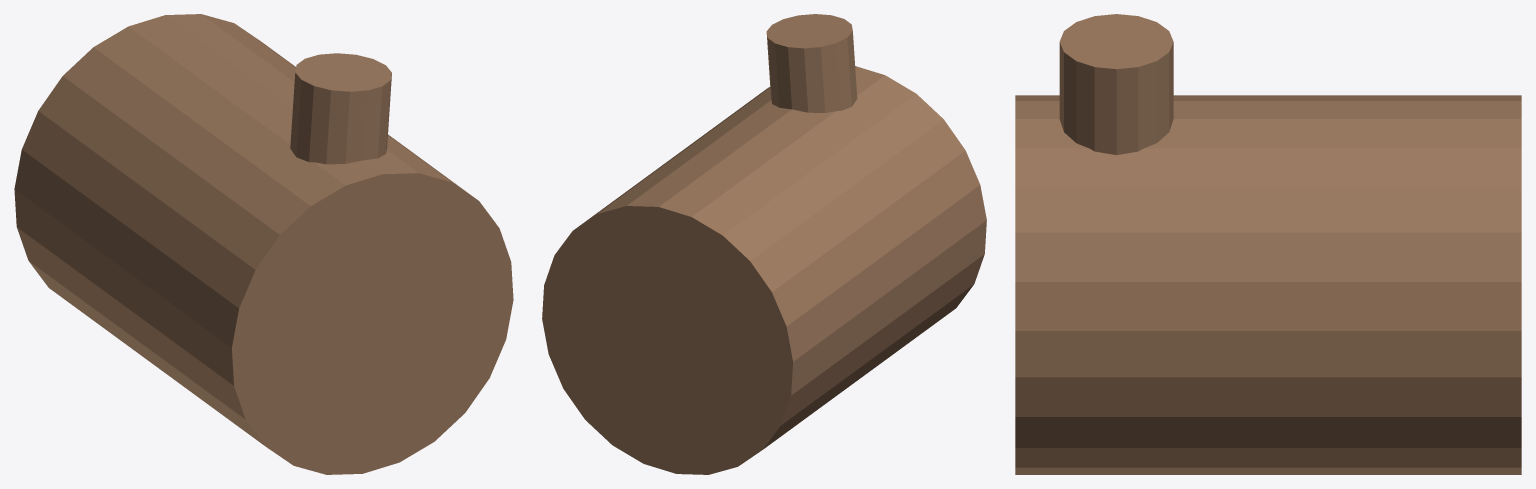
File: boiler_visual.glb
The picture shows the model from 3 angles, left to right: view 1: azimuth 30°, elevation 25°; view 2: azimuth 150°, elevation 25°; view 3: azimuth 270°, elevation 25°; orthographic projection. The views are drawn at different scales.
Visible parts, largest first — view 1: boiler; view 2: boiler; view 3: boiler.
Boxes of the visible parts, x1,y1,x2,y2 form: boiler: (14,14,513,474); boiler: (542,14,986,474); boiler: (1015,14,1521,474).
Bounding box in the file's own units: 2.99 × 3.72 × 4.
